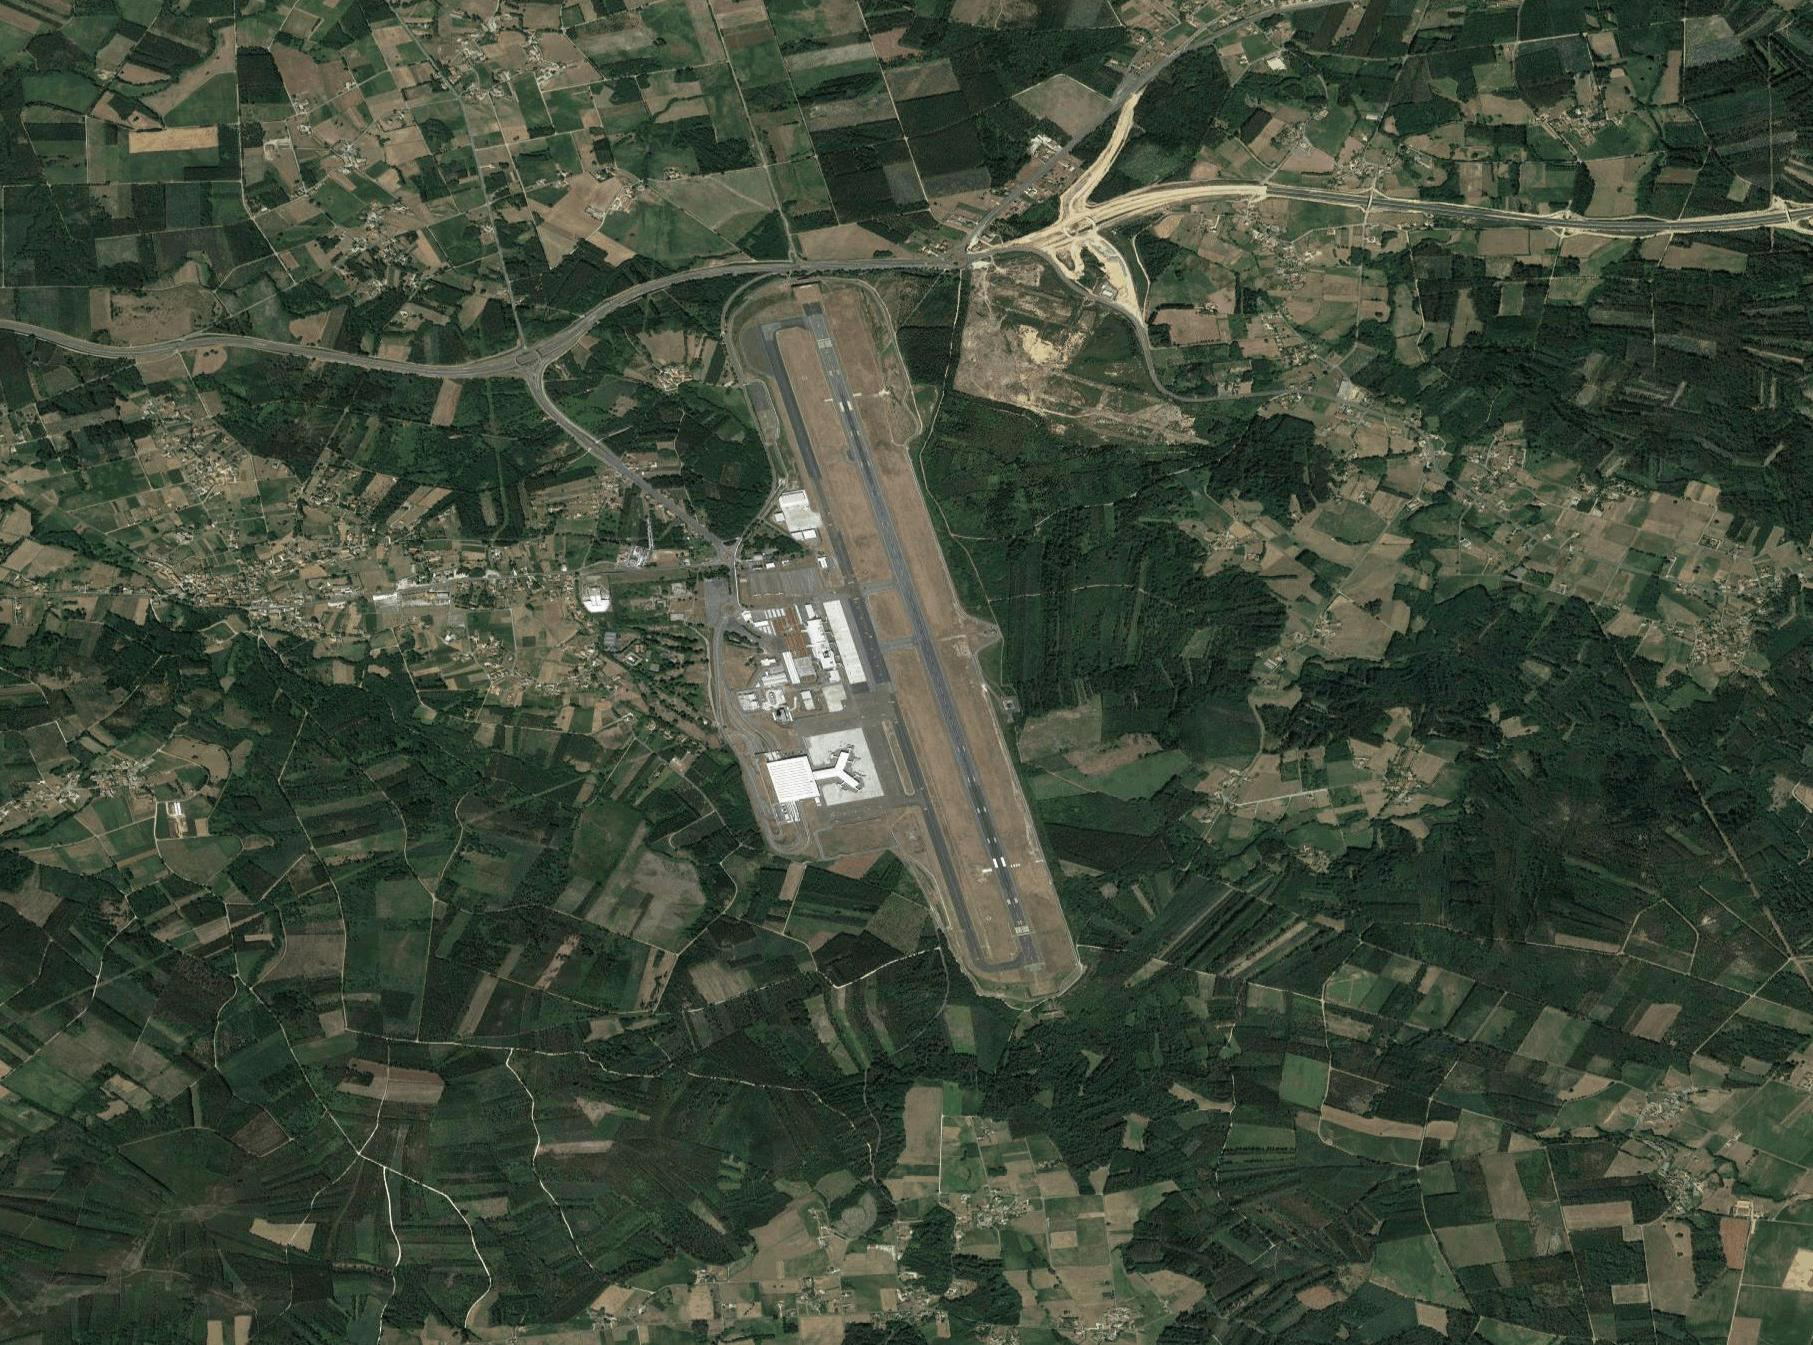airport: (724, 298, 1053, 975)
motorway: (526, 263, 726, 367), (1034, 178, 1265, 249), (725, 236, 1039, 278), (1, 316, 268, 360), (270, 340, 524, 379), (1481, 208, 1813, 236), (1266, 185, 1474, 219)
